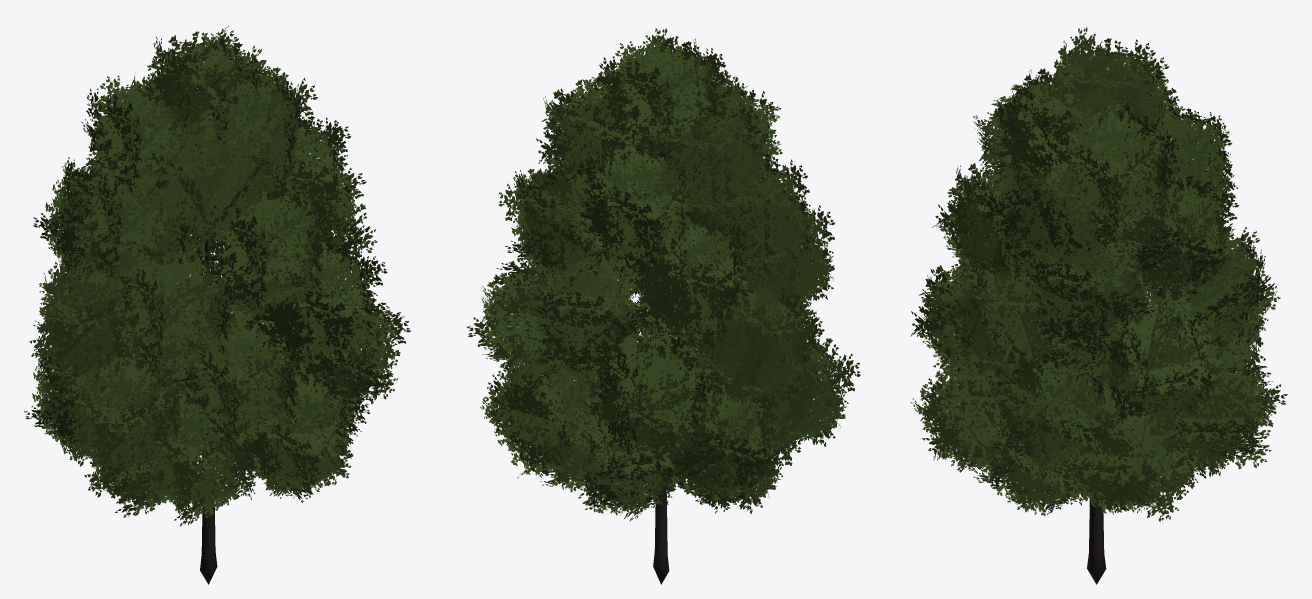
The model's file is tree_big_a.glb.
The picture shows the model from 3 angles, left to right: view 1: azimuth 30°, elevation 25°; view 2: azimuth 150°, elevation 25°; view 3: azimuth 270°, elevation 25°; orthographic projection.
Visible parts, largest first — view 1: Object_47, Object_46; view 2: Object_47, Object_46; view 3: Object_47, Object_46.
Part boxes in pixels (box(x1,y1,x2,y2)): Object_47: box(24, 26, 410, 526); Object_46: box(142, 233, 245, 584); Object_47: box(467, 28, 860, 521); Object_46: box(598, 230, 708, 584); Object_47: box(910, 27, 1287, 521); Object_46: box(1035, 228, 1126, 584).
Bounding box in the file's own units: 12.28 × 18.27 × 11.99.
Materials: 2 (1 with a texture image).
